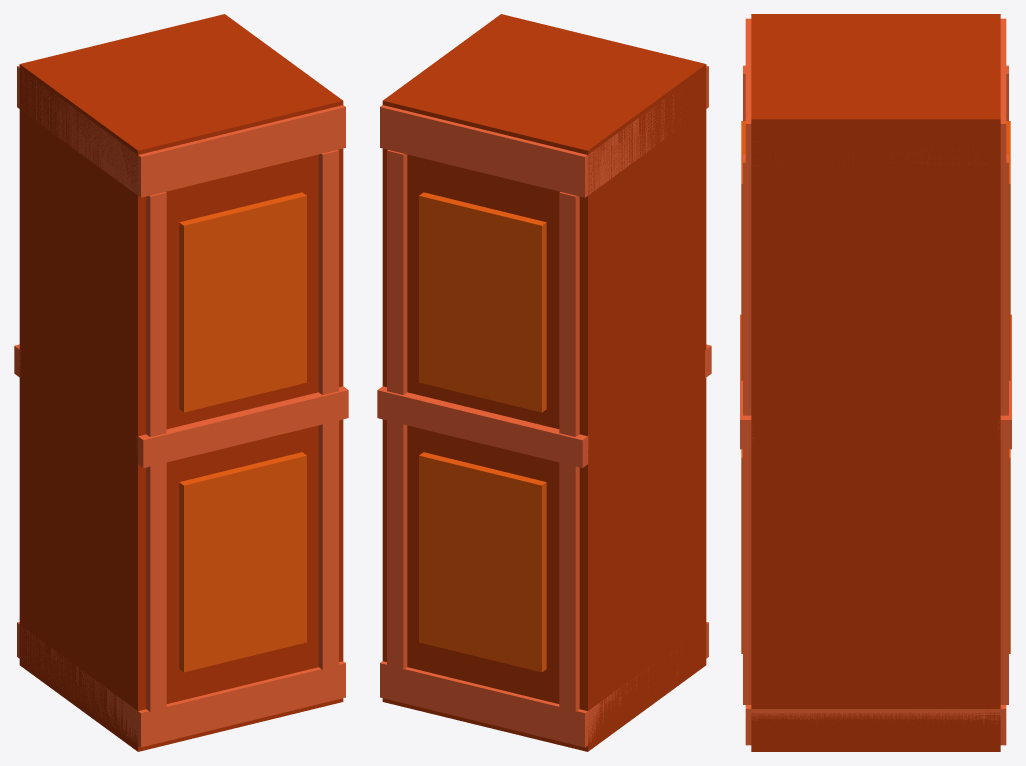
The model's file is CMU3DShuttleOrangeWall.glb.
The picture shows the model from 3 angles, left to right: view 1: azimuth 30°, elevation 25°; view 2: azimuth 150°, elevation 25°; view 3: azimuth 270°, elevation 25°; orthographic projection. The views are drawn at different scales.
Visible parts, largest first — view 1: full-tile structural core, inset wall plate (×2), corner column (×2), top course, base course, horizontal wall course; view 2: full-tile structural core, inset wall plate (×2), corner column (×2), top course, base course, horizontal wall course; view 3: full-tile structural core, corner column (×2), base course, top course, horizontal wall course (×2), inset wall plate (×2).
Boxes of the visible parts, <box> form: full-tile structural core: <box>19,14,343,751</box>; inset wall plate (×2): <box>179,192,306,672</box>; corner column (×2): <box>146,150,338,711</box>; top course: <box>17,65,345,197</box>; base course: <box>17,622,345,747</box>; horizontal wall course: <box>136,386,348,467</box>; full-tile structural core: <box>382,14,706,751</box>; inset wall plate (×2): <box>419,192,546,672</box>; corner column (×2): <box>387,150,579,711</box>; top course: <box>380,65,708,197</box>; base course: <box>380,622,708,747</box>; horizontal wall course: <box>377,386,589,467</box>; full-tile structural core: <box>751,14,1000,751</box>; corner column (×2): <box>743,154,1008,704</box>; base course: <box>745,705,1006,745</box>; top course: <box>745,18,1006,166</box>; horizontal wall course (×2): <box>740,314,1011,449</box>; inset wall plate (×2): <box>741,121,1010,380</box>.
Size of the model in its own units: 1 by 2.8 by 1.09.
